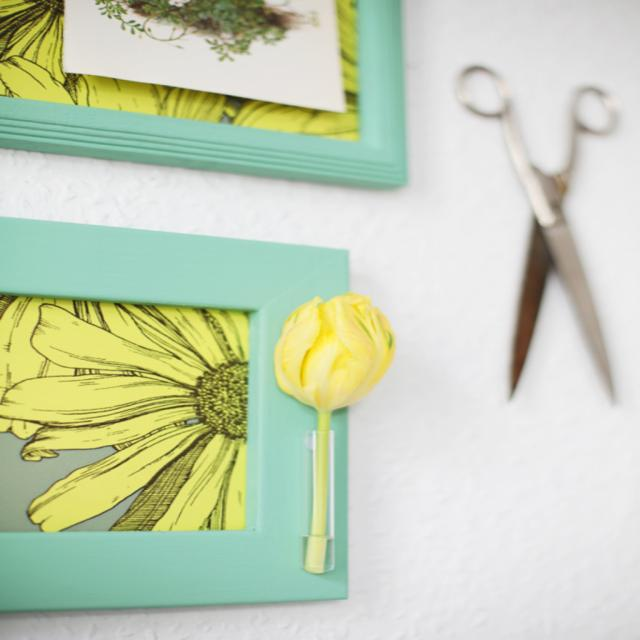scissors: (454, 64, 618, 404)
